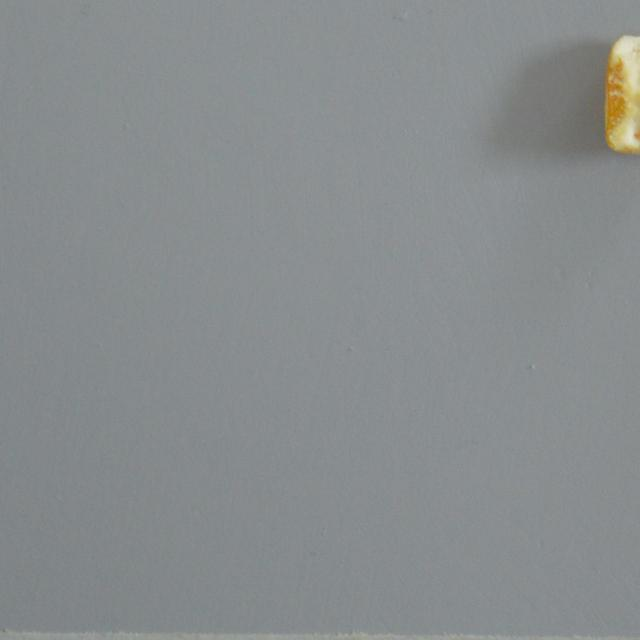dañado: (600, 30, 640, 158)
